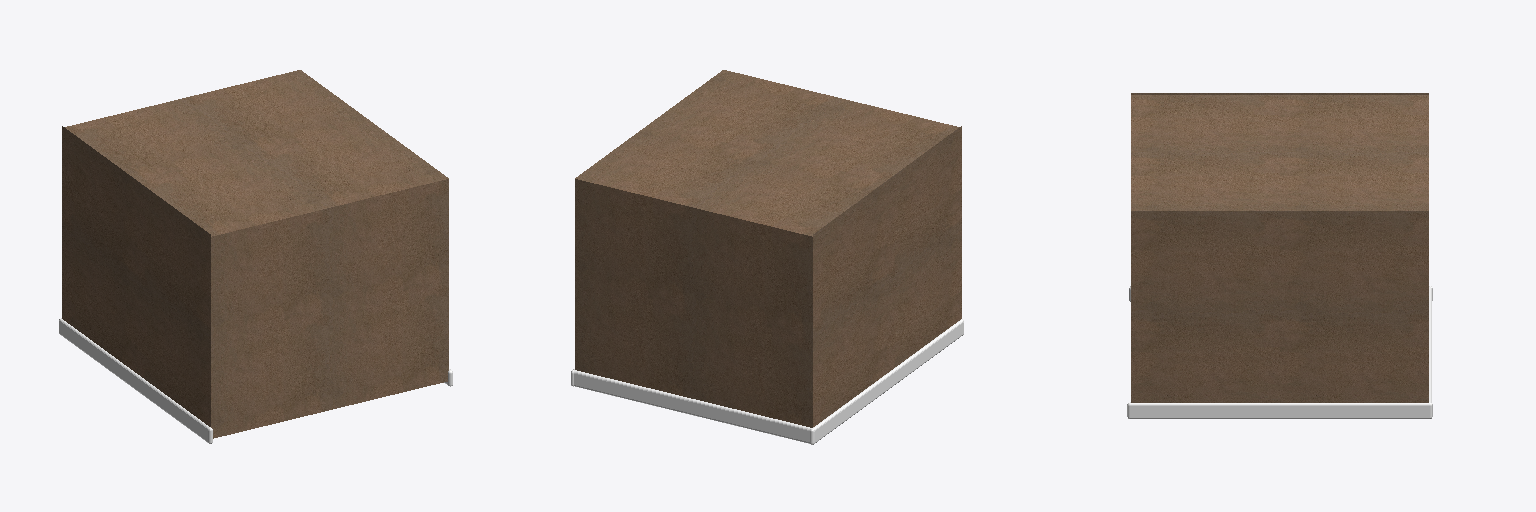
3 renders of one model, left to right at view 1: azimuth 30°, elevation 25°; view 2: azimuth 150°, elevation 25°; view 3: azimuth 270°, elevation 25°, orthographic.
Visible parts, largest first — view 1: Box001, Object022, ChamferBox004; view 2: Box001, Object022, ChamferBox005, ChamferBox004; view 3: Box001, ChamferBox006, Object022.
Boxes of the visible parts, <box> form: Box001: <box>65,70,448,438</box>; Object022: <box>62,126,210,426</box>; ChamferBox004: <box>59,318,212,443</box>; Box001: <box>575,70,958,427</box>; Object022: <box>813,126,961,426</box>; ChamferBox005: <box>574,370,811,443</box>; ChamferBox004: <box>810,319,963,444</box>; Box001: <box>1131,95,1428,402</box>; ChamferBox006: <box>1127,402,1432,418</box>; Object022: <box>1131,93,1428,94</box>.
Size of the model in its own units: 240 by 198 by 261.
3 materials, 1 textured.